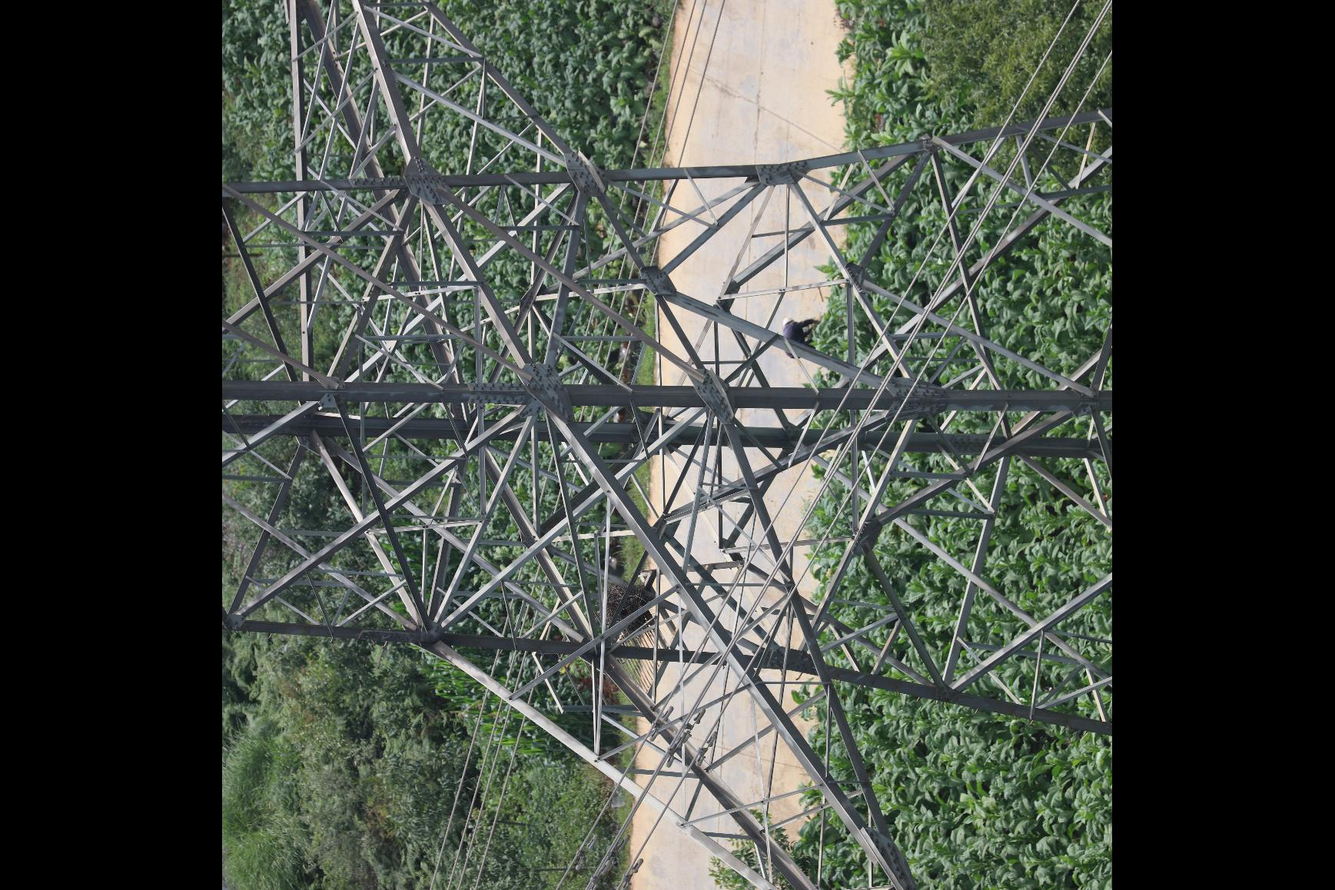damper: (677, 706, 708, 748), (573, 832, 601, 872), (647, 704, 675, 743), (692, 729, 719, 769), (618, 856, 646, 890), (589, 858, 613, 890), (664, 736, 682, 770)
nest: (604, 583, 651, 633)
